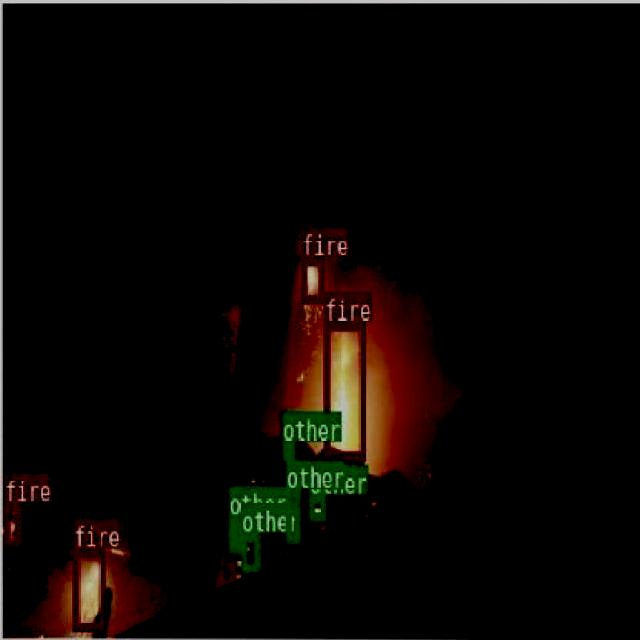fire: (322, 322, 364, 458), (71, 548, 104, 630), (299, 256, 324, 302), (3, 502, 22, 546)
